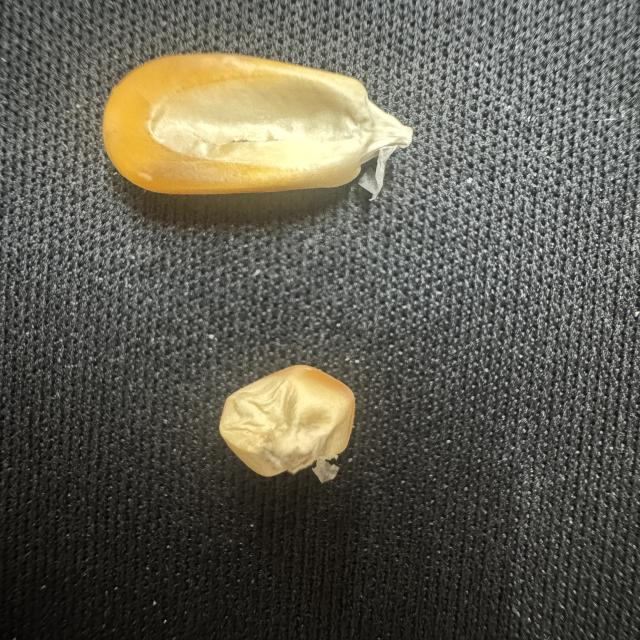Bad-Seed: (213, 360, 370, 489)
Good-Seed: (95, 40, 418, 212)
